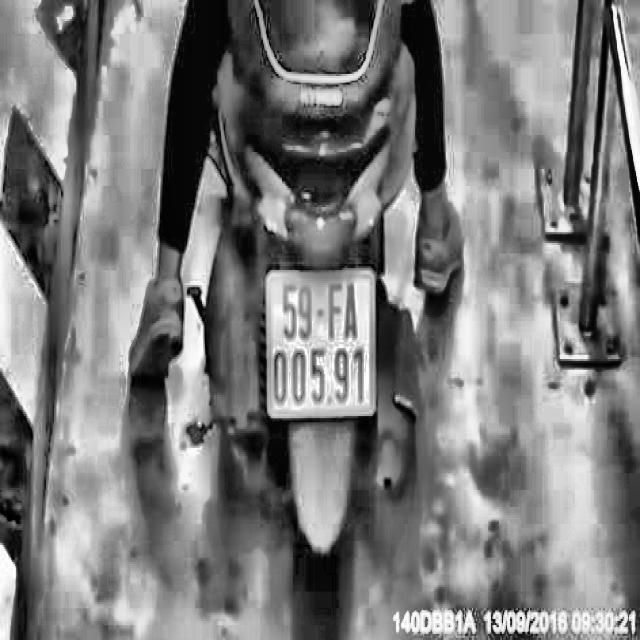plate: (260, 258, 381, 426)
